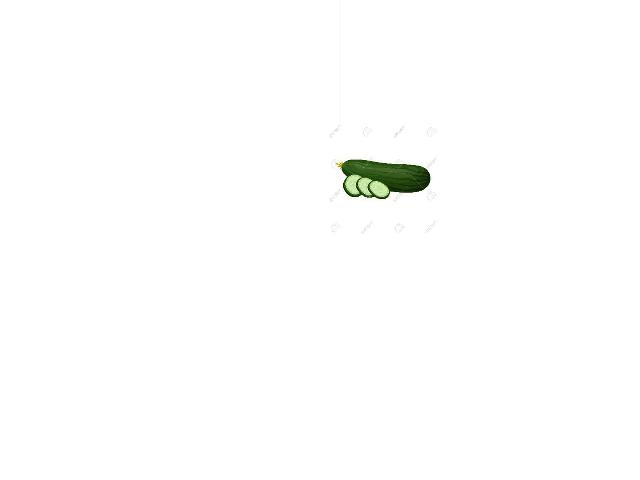cucumber: (336, 160, 431, 193)
